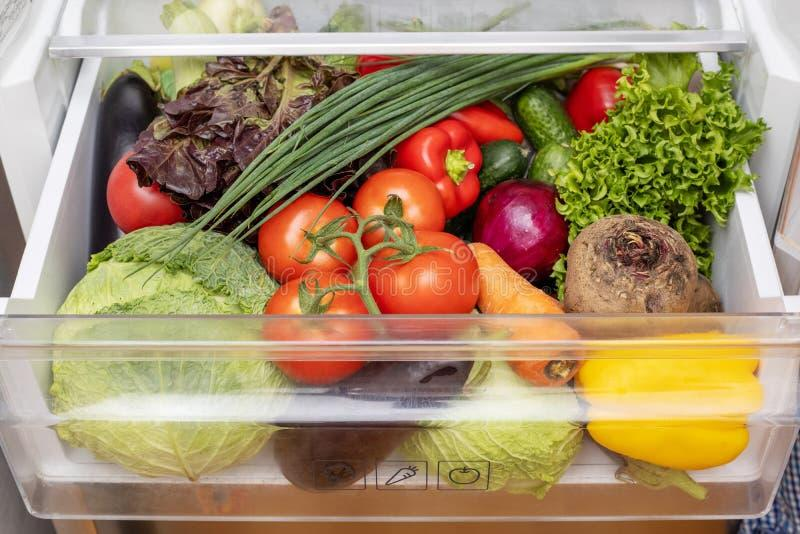bell pepper: (592, 328, 766, 461)
cabbage: (87, 225, 302, 496)
carrot: (449, 226, 610, 389)
onion: (466, 176, 576, 268)
tomato: (269, 181, 479, 349)
